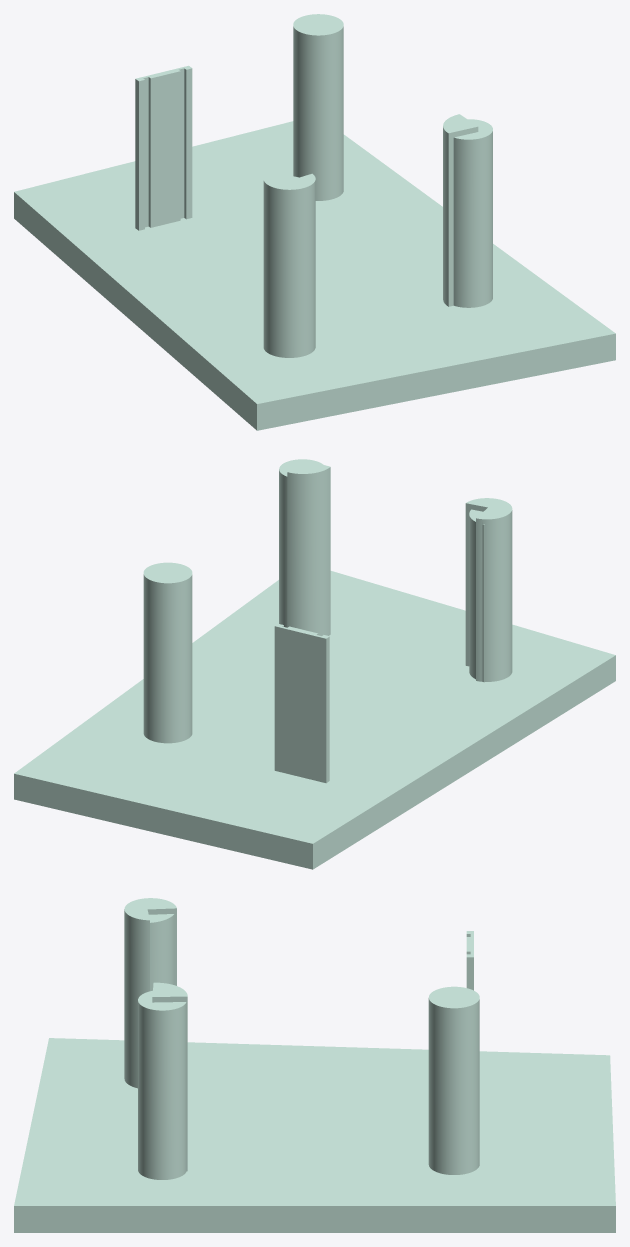
The picture shows the model from 3 angles, top to bottom: view 1: azimuth 30°, elevation 25°; view 2: azimuth 150°, elevation 25°; view 3: azimuth 270°, elevation 25°; orthographic projection. The views are drawn at different scales.
Parts seen in each view (by area): view 1: Renderer Node; view 2: Renderer Node; view 3: Renderer Node.
Part boxes in pixels (x1=…): Renderer Node: x1=14, y1=14, x2=615, y2=430; Renderer Node: x1=14, y1=459, x2=615, y2=869; Renderer Node: x1=14, y1=898, x2=615, y2=1232.
Size of the model in its own units: 1.05 by 0.5859 by 1.58.
